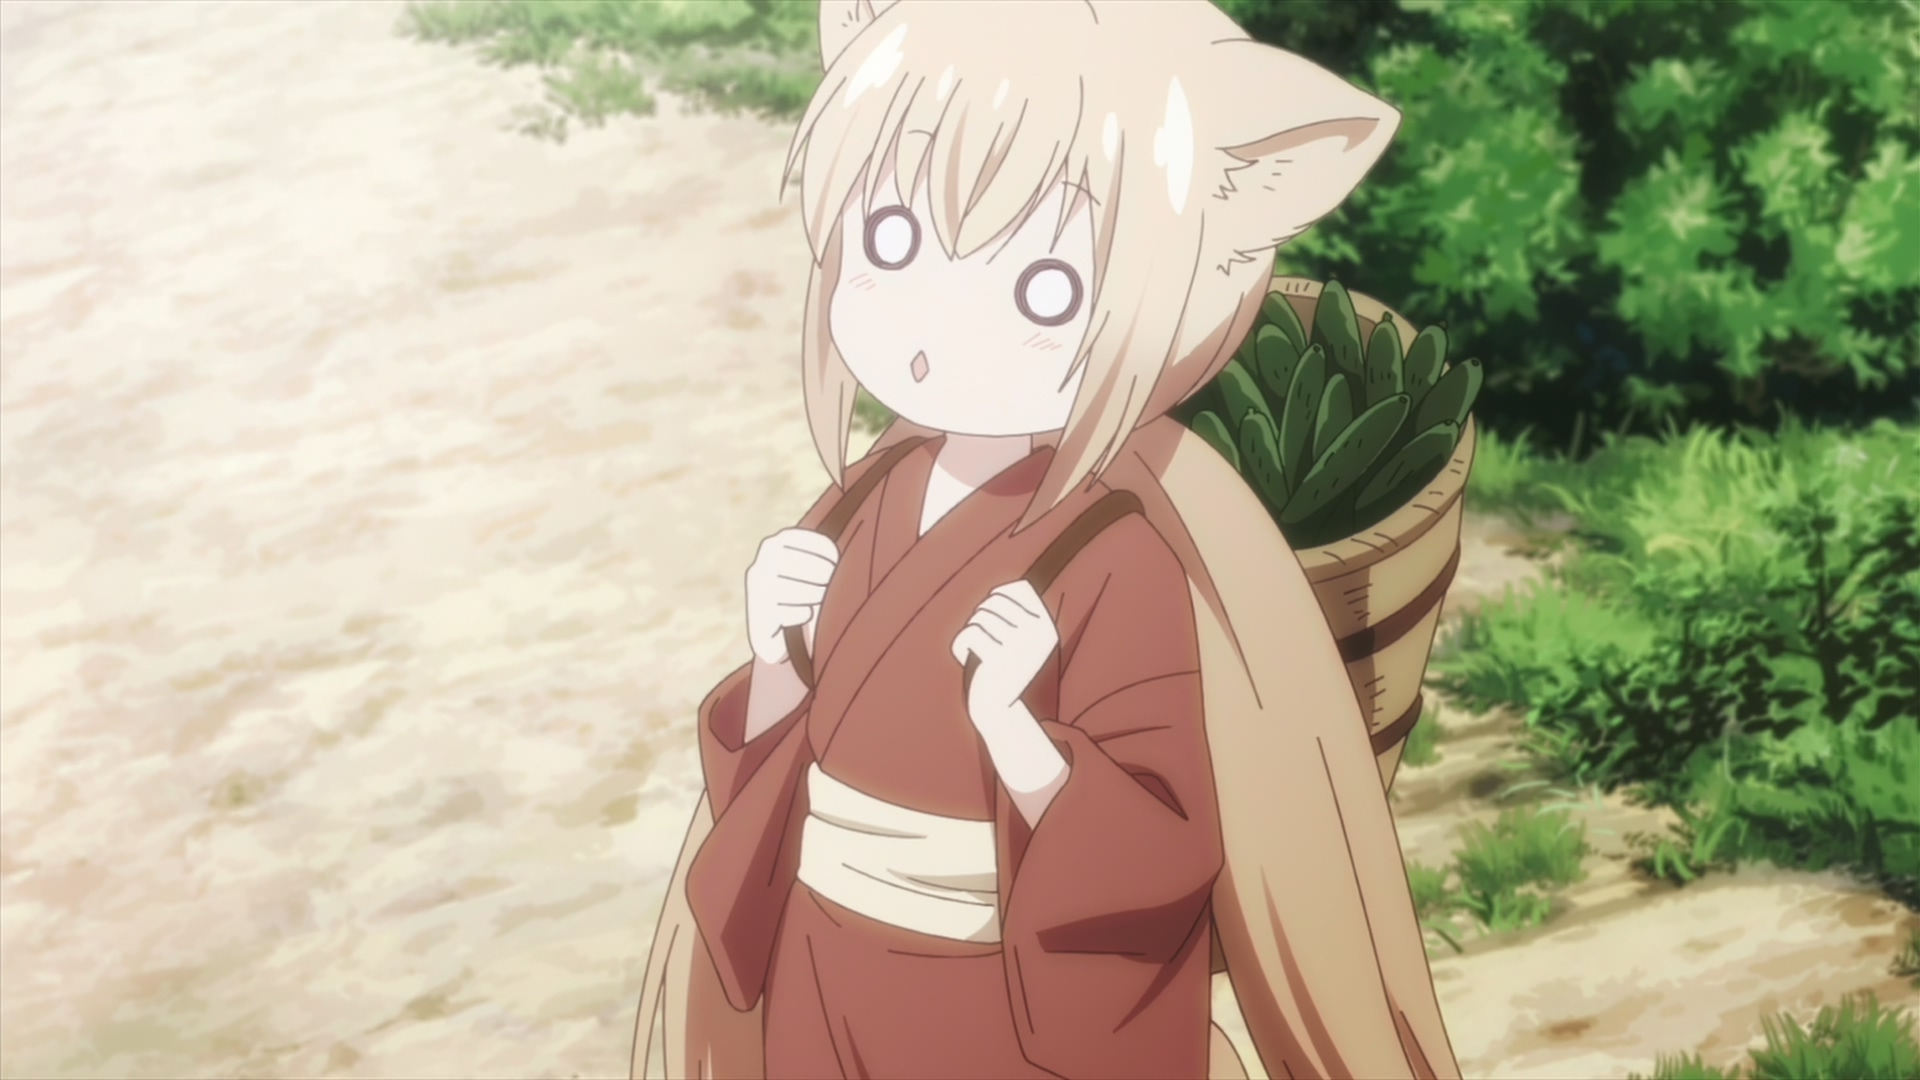柚: (628, 1, 1462, 1080)
